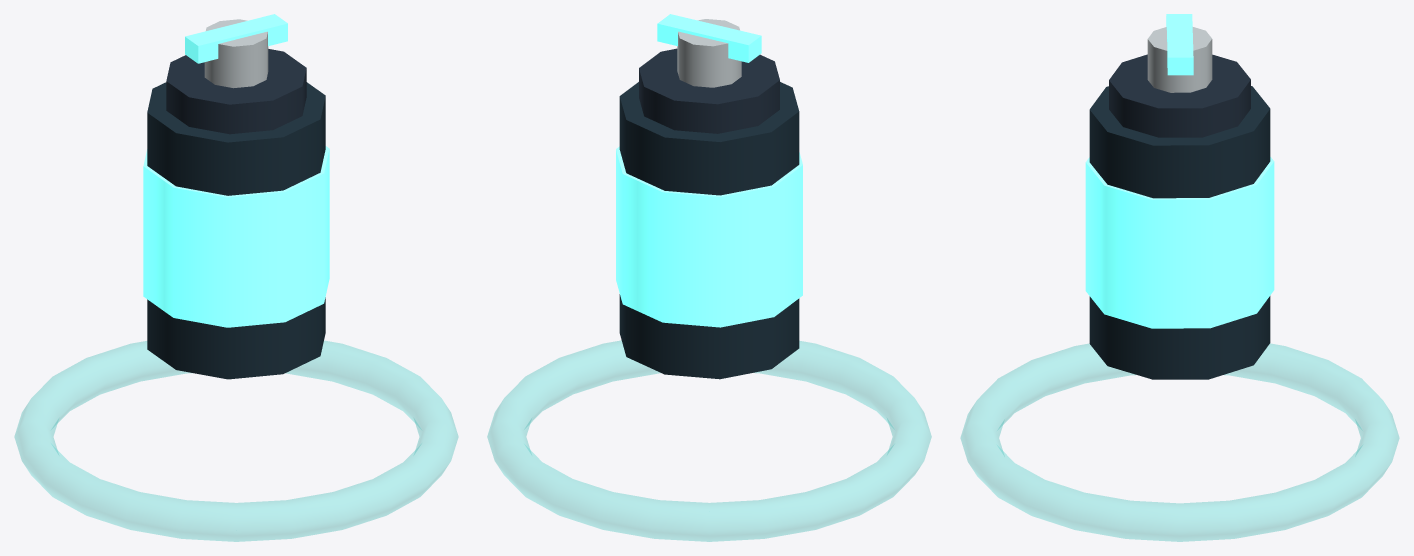
The model's file is pickup_suit.glb.
3 views of the same model, side by side, from view 1: azimuth 30°, elevation 25°; view 2: azimuth 150°, elevation 25°; view 3: azimuth 270°, elevation 25° (orthographic).
Visible parts, largest first — view 1: _MeshInstance3D_4243, _MeshInstance3D_4239, _MeshInstance3D_4238, _MeshInstance3D_4240, _MeshInstance3D_4241, _MeshInstance3D_4242; view 2: _MeshInstance3D_4243, _MeshInstance3D_4239, _MeshInstance3D_4238, _MeshInstance3D_4240, _MeshInstance3D_4241, _MeshInstance3D_4242; view 3: _MeshInstance3D_4243, _MeshInstance3D_4239, _MeshInstance3D_4238, _MeshInstance3D_4240, _MeshInstance3D_4241, _MeshInstance3D_4242.
Part boxes in pixels (left/top/right/bottom): _MeshInstance3D_4243: left=14, top=340, right=458, bottom=541; _MeshInstance3D_4239: left=143, top=146, right=329, bottom=327; _MeshInstance3D_4238: left=147, top=82, right=325, bottom=379; _MeshInstance3D_4240: left=166, top=49, right=306, bottom=134; _MeshInstance3D_4241: left=204, top=19, right=268, bottom=88; _MeshInstance3D_4242: left=185, top=14, right=287, bottom=63; _MeshInstance3D_4243: left=487, top=340, right=931, bottom=541; _MeshInstance3D_4239: left=616, top=146, right=802, bottom=327; _MeshInstance3D_4238: left=619, top=82, right=799, bottom=379; _MeshInstance3D_4240: left=639, top=48, right=779, bottom=133; _MeshInstance3D_4241: left=677, top=19, right=741, bottom=87; _MeshInstance3D_4242: left=657, top=14, right=761, bottom=62; _MeshInstance3D_4243: left=960, top=343, right=1399, bottom=541; _MeshInstance3D_4239: left=1085, top=157, right=1274, bottom=328; _MeshInstance3D_4238: left=1089, top=86, right=1270, bottom=379; _MeshInstance3D_4240: left=1109, top=54, right=1250, bottom=137; _MeshInstance3D_4241: left=1147, top=27, right=1212, bottom=92; _MeshInstance3D_4242: left=1166, top=14, right=1193, bottom=75.
Size of the model in its own units: 0.68 by 0.7128 by 0.68.
